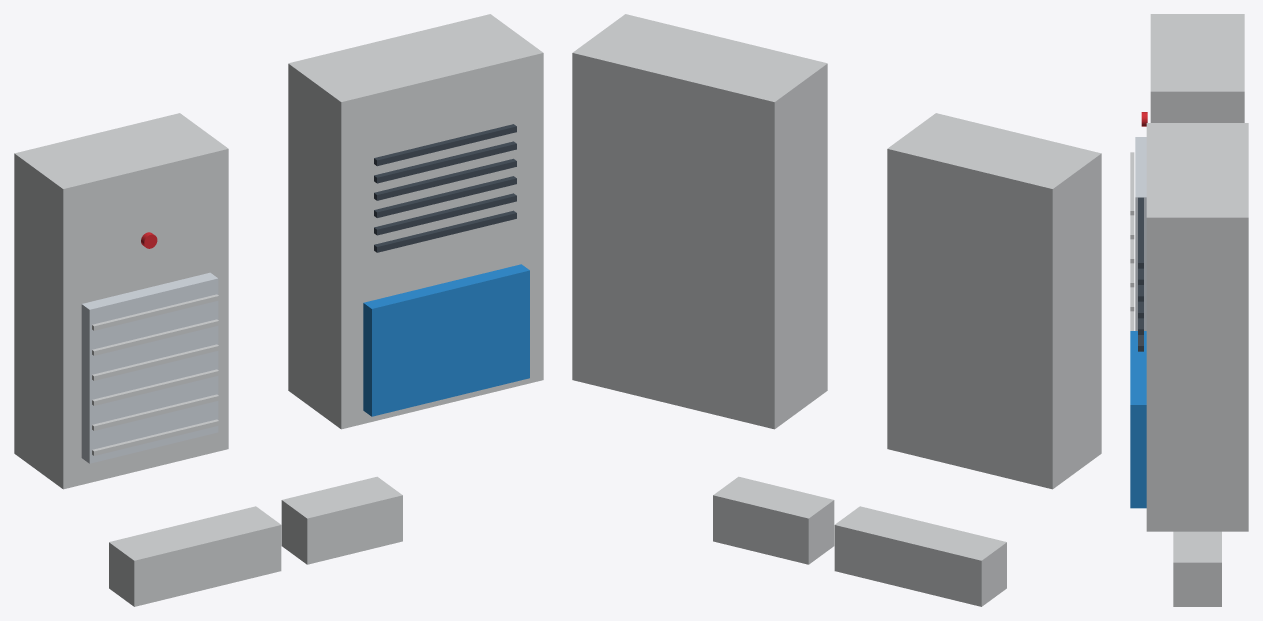
The model's file is model-intrusion.glb.
3 renders of one model, left to right at view 1: azimuth 30°, elevation 25°; view 2: azimuth 150°, elevation 25°; view 3: azimuth 270°, elevation 25°, orthographic. The views are drawn at different scales.
Visible parts, largest first — view 1: Alarm siren, PIR sensor housing, Strobe lens, PIR Fresnel window, Door contact, Siren grille (×6), Contact magnet, Fresnel lens segment (×6); view 2: Alarm siren, PIR sensor housing, Door contact, Contact magnet; view 3: Alarm siren, PIR sensor housing, Contact magnet, Strobe lens, PIR Fresnel window, Siren grille, Fresnel lens segment.
Part boxes in pixels (left/top/right/bottom): Alarm siren: left=288, top=14, right=543, bottom=429; PIR sensor housing: left=14, top=113, right=228, bottom=489; Strobe lens: left=363, top=264, right=529, bottom=416; PIR Fresnel window: left=81, top=272, right=218, bottom=463; Door contact: left=109, top=506, right=281, bottom=606; Siren grille (×6): left=374, top=124, right=516, bottom=252; Contact magnet: left=281, top=476, right=402, bottom=564; Fresnel lens segment (×6): left=92, top=294, right=219, bottom=455; Alarm siren: left=572, top=14, right=827, bottom=429; PIR sensor housing: left=887, top=113, right=1101, bottom=489; Door contact: left=834, top=506, right=1006, bottom=606; Contact magnet: left=713, top=476, right=834, bottom=564; Alarm siren: left=1146, top=123, right=1248, bottom=531; PIR sensor housing: left=1150, top=14, right=1244, bottom=122; Contact magnet: left=1173, top=531, right=1221, bottom=606; Strobe lens: left=1130, top=331, right=1146, bottom=508; PIR Fresnel window: left=1135, top=137, right=1146, bottom=330; Siren grille: left=1138, top=197, right=1143, bottom=268; Fresnel lens segment: left=1130, top=152, right=1134, bottom=215.
Bounding box in the file's own units: 1.3 × 1.22 × 0.29.
